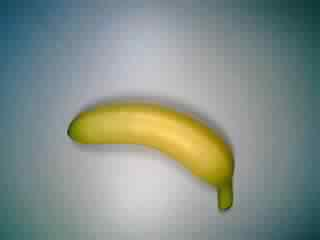banana: (63, 98, 241, 212)
